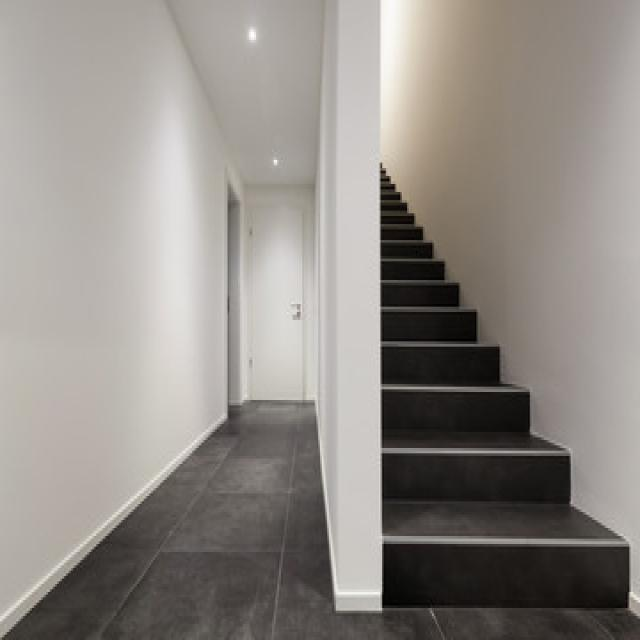stair: (381, 168, 629, 607)
